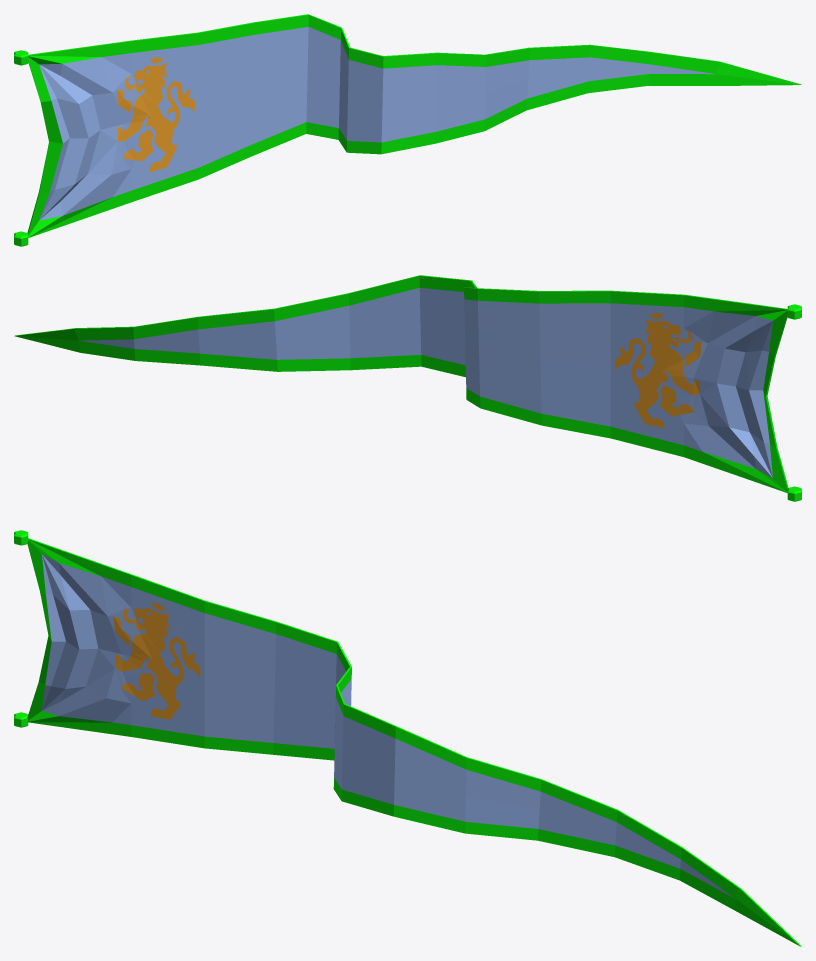
Rendered from SM_Flag_Triangle_A_Fantasy.fbx.
The picture shows the model from 3 angles, top to bottom: view 1: azimuth 30°, elevation 25°; view 2: azimuth 150°, elevation 25°; view 3: azimuth 330°, elevation 25°; orthographic projection.
Parts seen in each view (by area): view 1: flag-triangle-a-fantasy; view 2: flag-triangle-a-fantasy; view 3: flag-triangle-a-fantasy.
Part boxes in pixels (x1,y1,x2,y2): flag-triangle-a-fantasy: [14, 14, 801, 246]; flag-triangle-a-fantasy: [14, 275, 801, 501]; flag-triangle-a-fantasy: [14, 530, 801, 946].
Size of the model in its own units: 4.89 by 1.31 by 0.3947.
